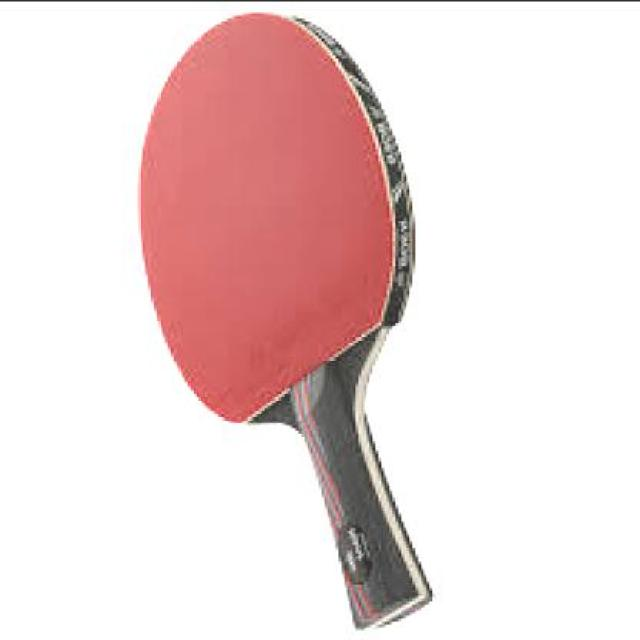table_tennis_racket: (122, 12, 412, 430)
